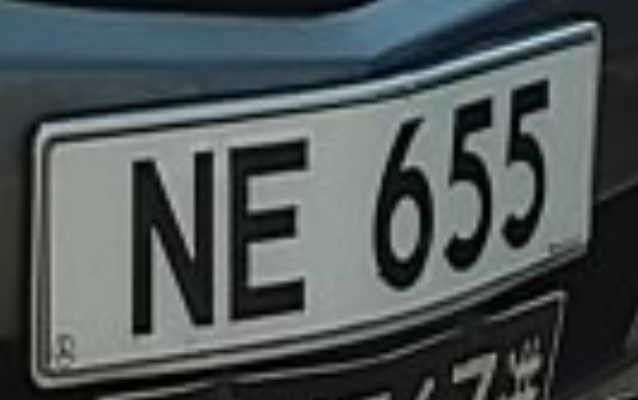5: (440, 82, 500, 287), (500, 71, 557, 263)
6: (367, 95, 440, 299)
E: (217, 116, 331, 344)
N: (108, 128, 233, 357)
